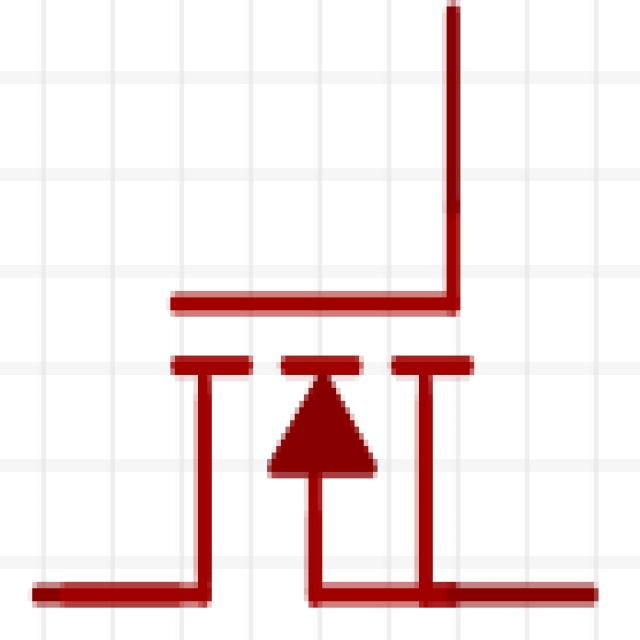nmos: (23, 12, 617, 632)
